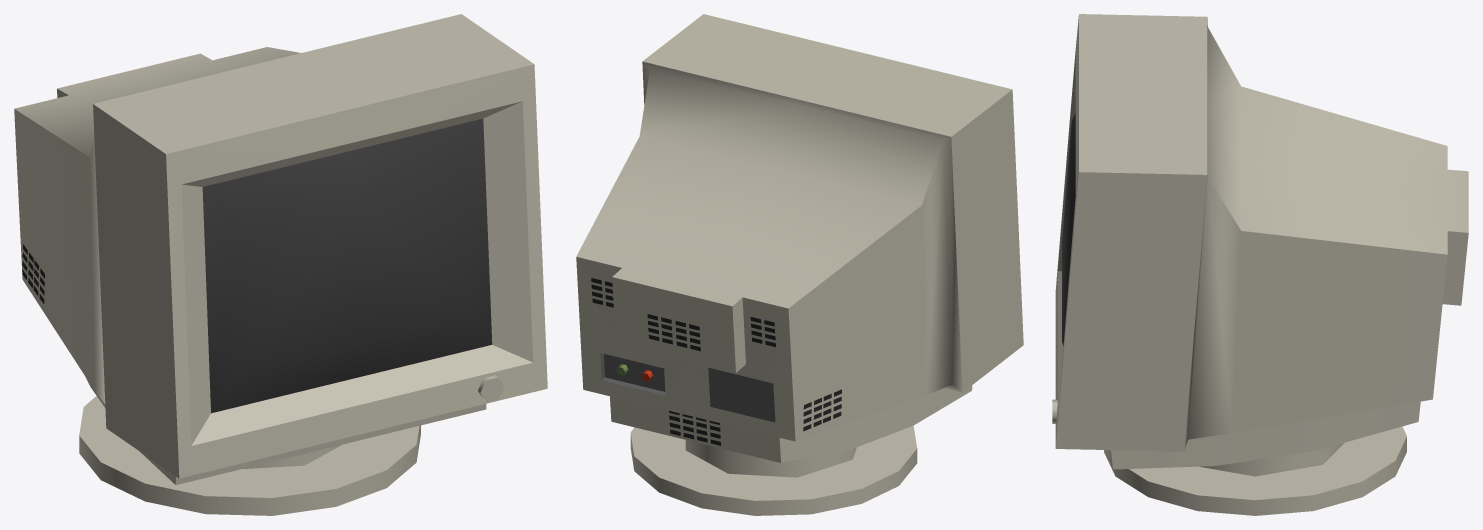
Rendered from ComputerScreen_01.fbx.
3 renders of one model, left to right at view 1: azimuth 30°, elevation 25°; view 2: azimuth 150°, elevation 25°; view 3: azimuth 270°, elevation 25°, orthographic. The views are drawn at different scales.
Visible parts, largest first — view 1: ComputerScreen_01; view 2: ComputerScreen_01; view 3: ComputerScreen_01.
Part boxes in pixels (x1,y1,x2,y2): ComputerScreen_01: (14, 14, 547, 515); ComputerScreen_01: (576, 14, 1023, 515); ComputerScreen_01: (1052, 14, 1468, 515).
Bounding box in the file's own units: 0.4167 × 0.4409 × 0.4639.
